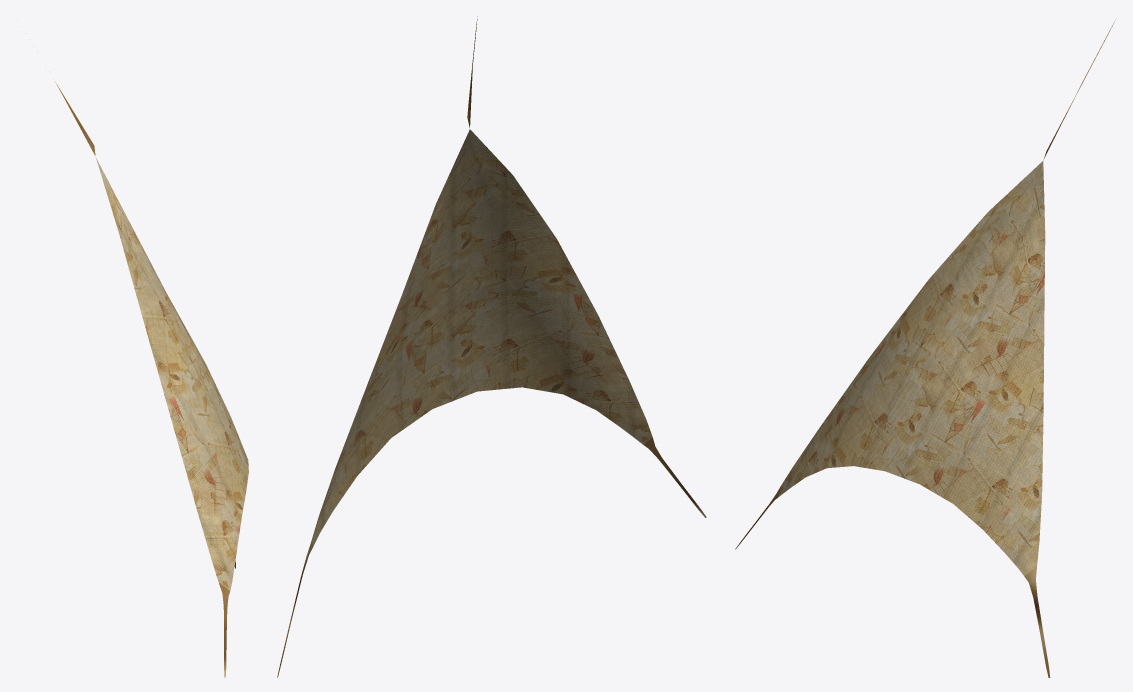
The model's file is sail1.fbx.
3 views of the same model, side by side, from view 1: azimuth 30°, elevation 25°; view 2: azimuth 150°, elevation 25°; view 3: azimuth 270°, elevation 25° (orthographic). The views are drawn at different scales.
Parts seen in each view (by area): view 1: Plane.004; view 2: Plane.004; view 3: Plane.004.
Part boxes in pixels (x1,y1,x2,y2): Plane.004: [55, 82, 248, 677]; Plane.004: [277, 16, 706, 677]; Plane.004: [735, 18, 1116, 677].
Size of the model in its own units: 476 by 1401 by 849.
